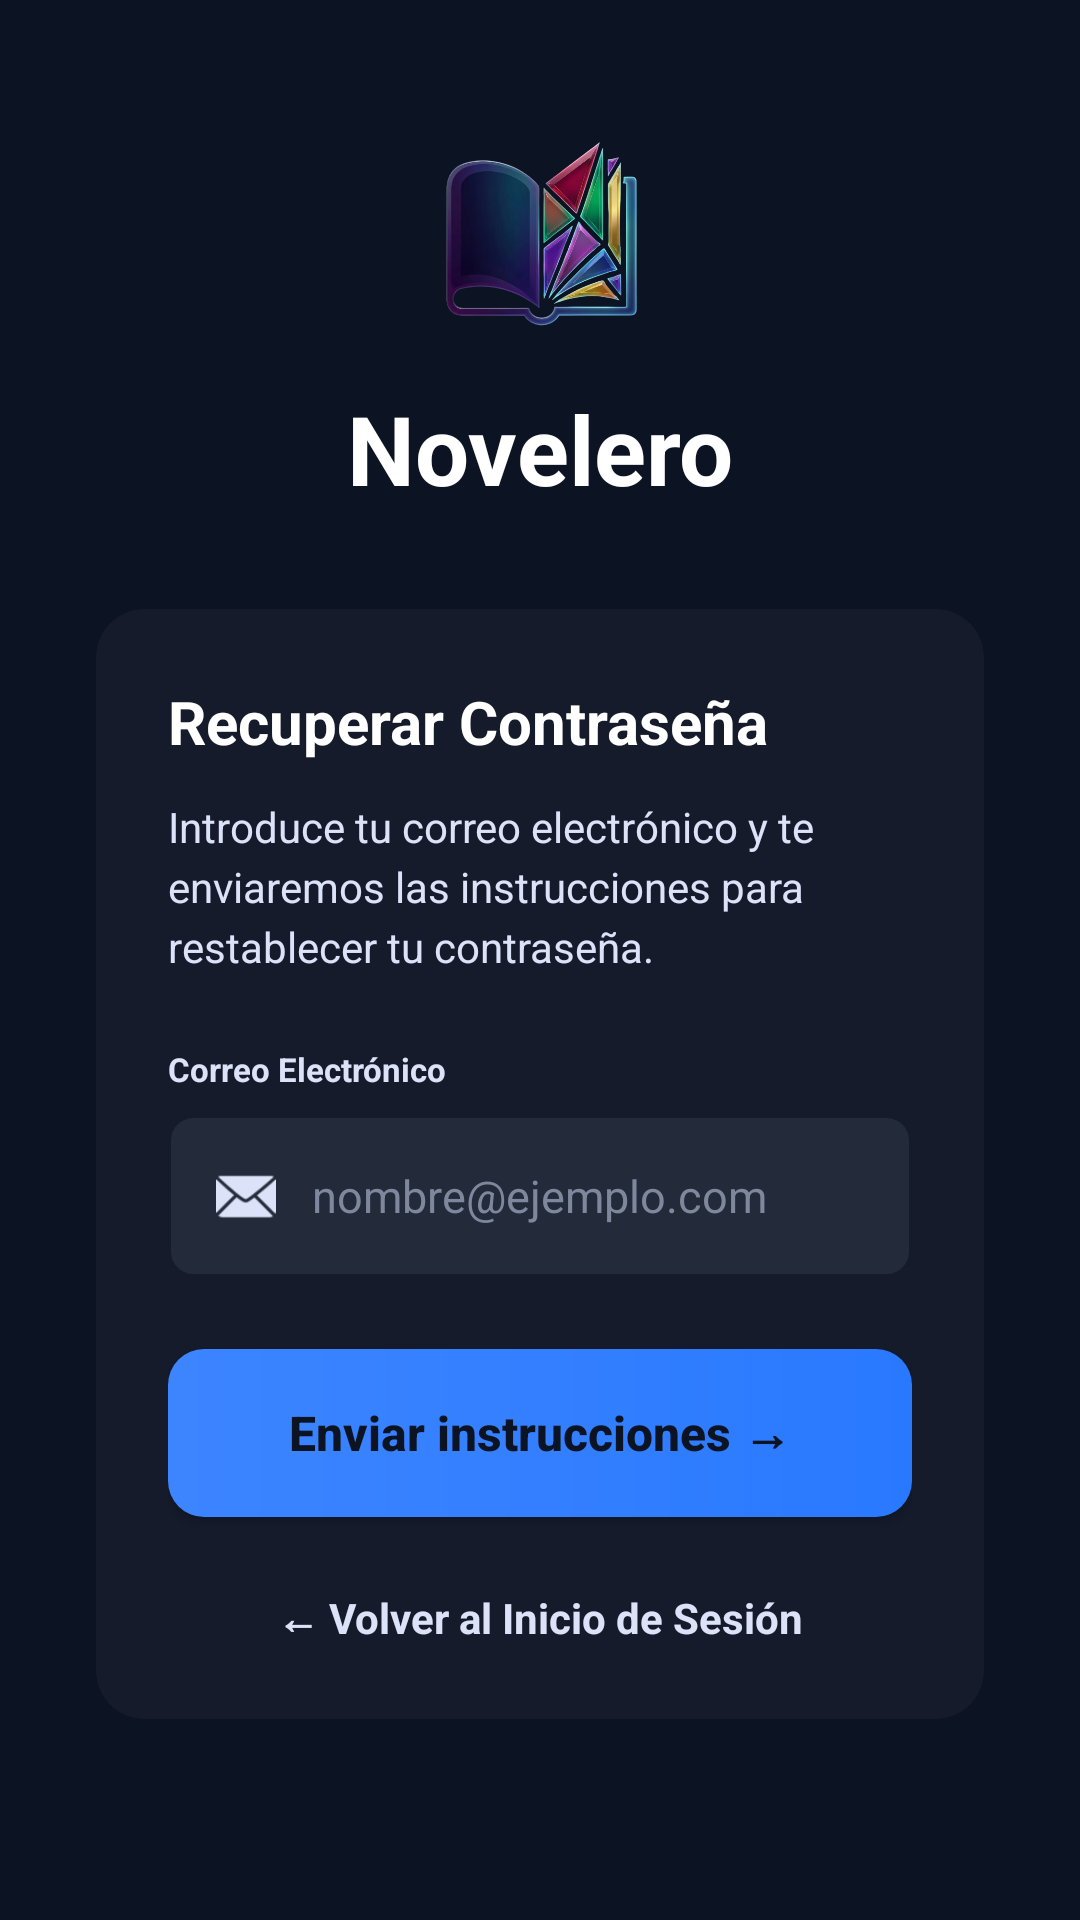

Icon click points for this 1080 x 1920 phone screenshot, format (x,y):
email: (246,1196)
